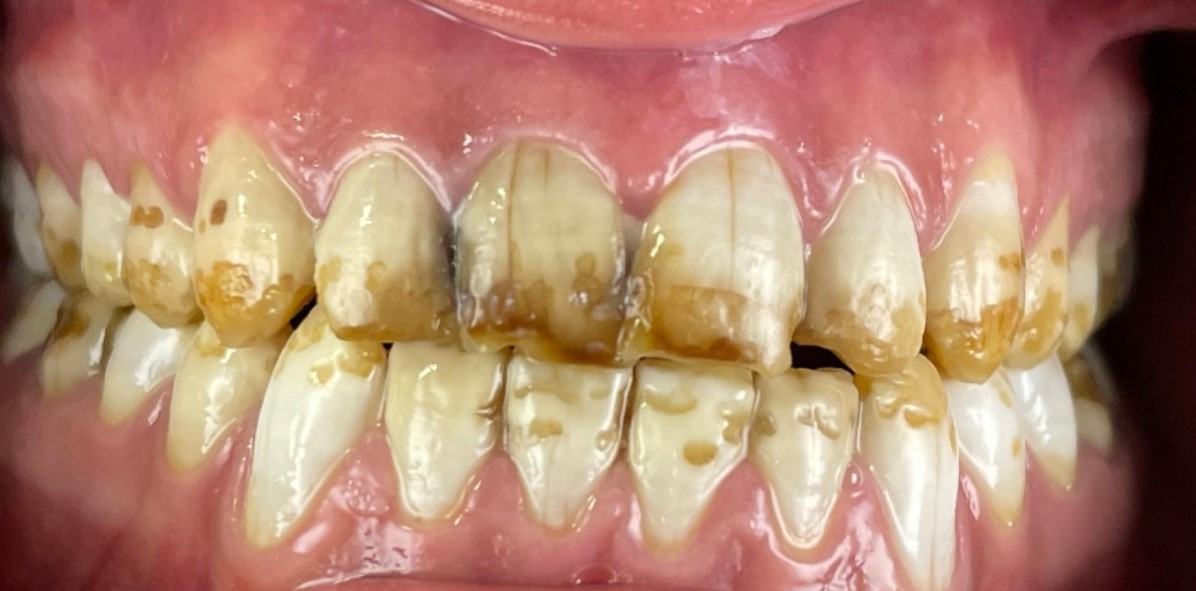LL1BC_decay: (952, 379, 1027, 534)
LL2BC_decay: (1022, 361, 1080, 495)
LLCI_decay: (631, 361, 754, 553)
LLC_decay: (863, 361, 961, 556)
LLLI_decay: (759, 374, 858, 552)
LR1BC_decay: (167, 332, 274, 472)
LR2BC: (99, 325, 183, 431)
LRCI_decay: (506, 349, 627, 527)
LRC_decay: (241, 328, 384, 548)
LRLI_decay: (388, 337, 498, 524)
UL1BC_decay: (1009, 200, 1071, 373)
ULCI_decay: (618, 136, 812, 367)
ULC_decay: (928, 154, 1023, 385)
ULLI_decay: (799, 160, 927, 374)
UR1BC_decay: (123, 161, 199, 338)
UR2BC_decay: (70, 154, 132, 307)
URCI_decay: (456, 130, 621, 365)
URC_decay: (191, 125, 312, 347)
URLI_decay: (316, 136, 458, 347)
